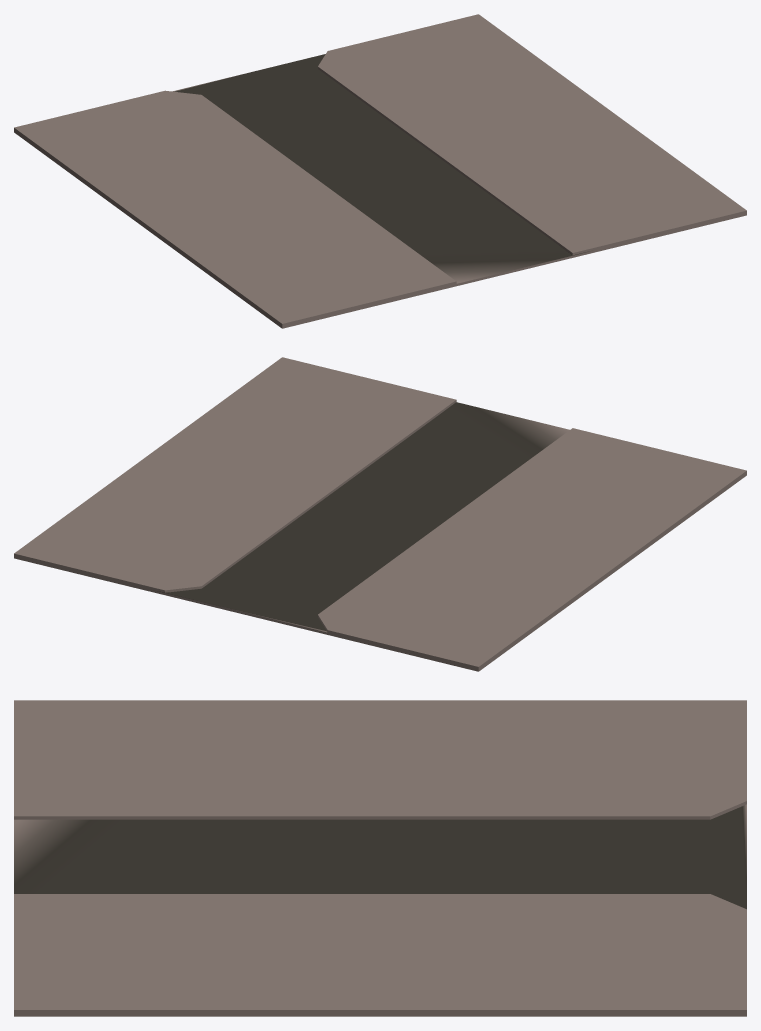
Rendered from Env_3lane_To_Street_col.fbx.
The picture shows the model from 3 angles, top to bottom: view 1: azimuth 30°, elevation 25°; view 2: azimuth 150°, elevation 25°; view 3: azimuth 270°, elevation 25°; orthographic projection. The views are drawn at different scales.
Visible parts, largest first — view 1: Env_3lane_To_Street_col; view 2: Env_3lane_To_Street_col; view 3: Env_3lane_To_Street_col.
Boxes of the visible parts, <box> form: Env_3lane_To_Street_col: <box>14,14,746,328</box>; Env_3lane_To_Street_col: <box>14,357,746,671</box>; Env_3lane_To_Street_col: <box>14,700,746,1016</box>.
Size of the model in its own units: 2000 by 20 by 2000.
